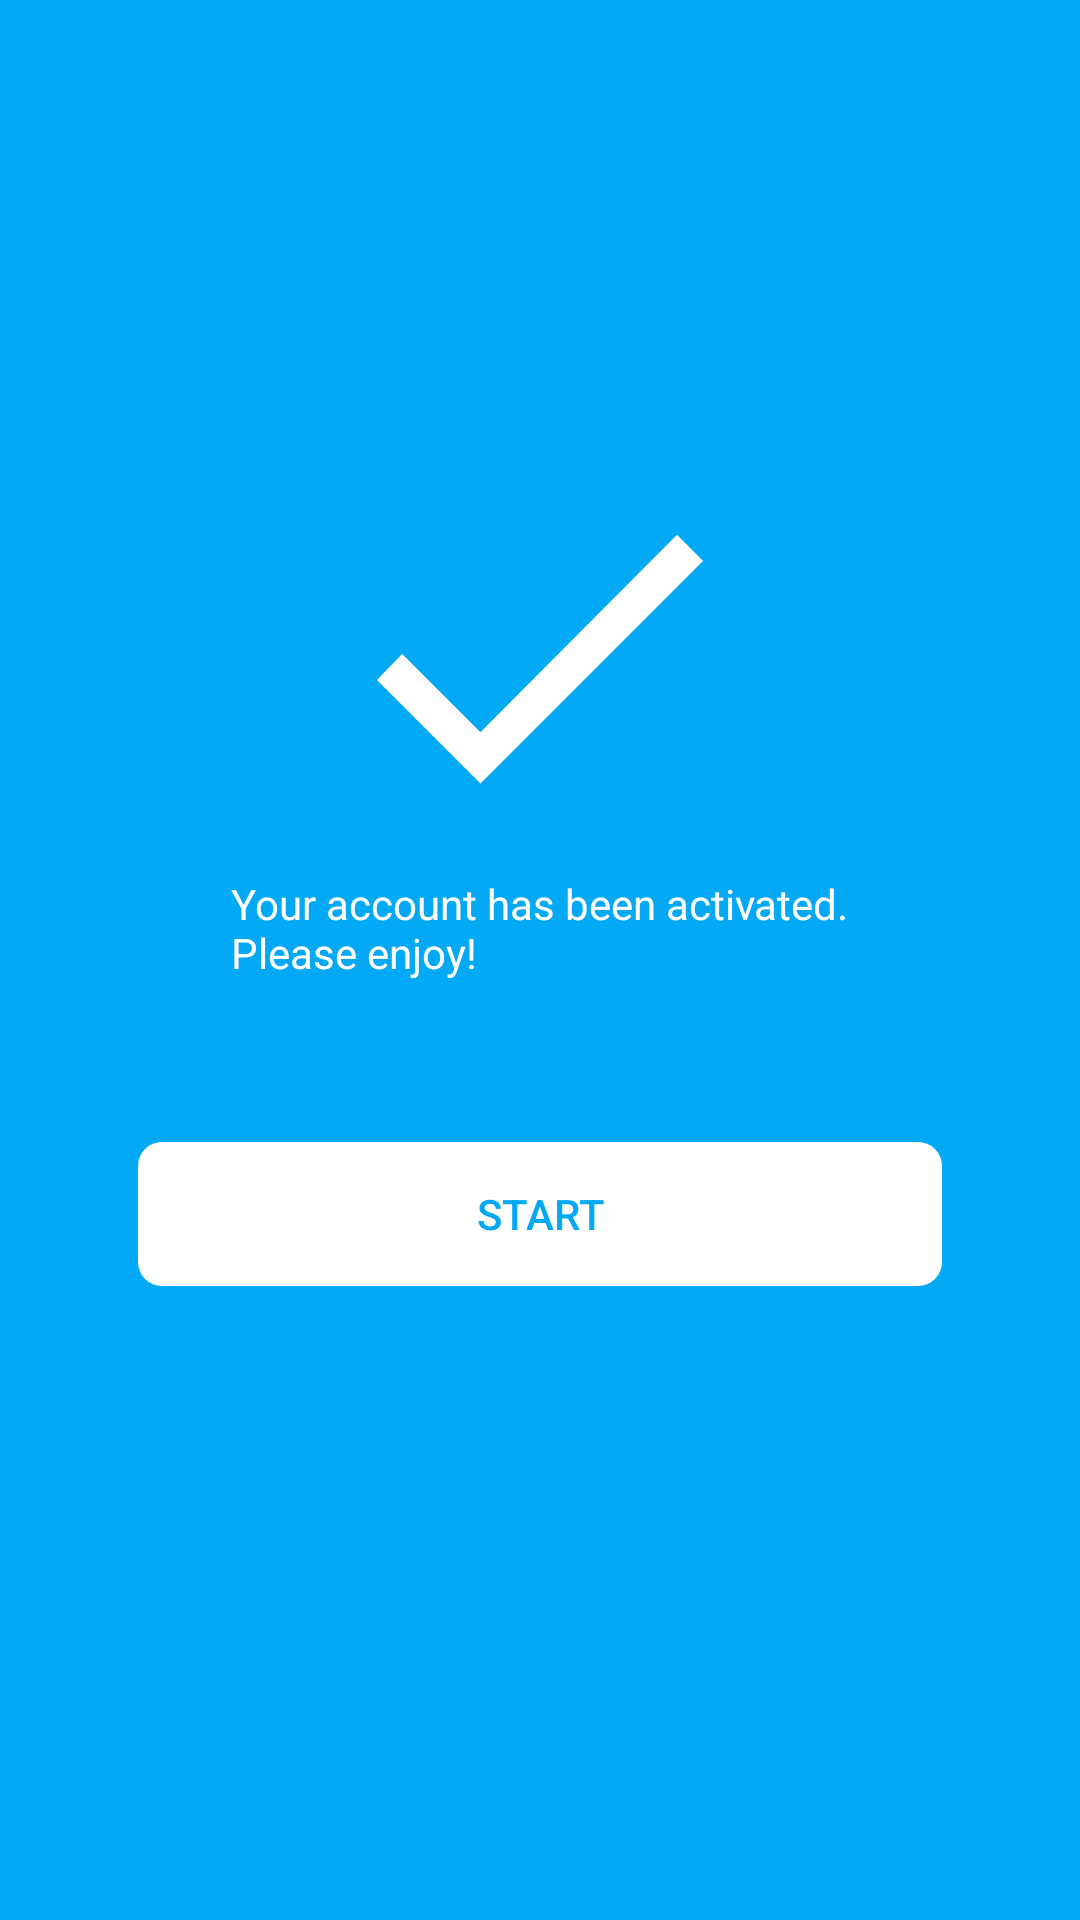

Screen size 1080w x 1920h. Icon name, then its center in pixels as point (x, y):
完了: point (540, 659)
